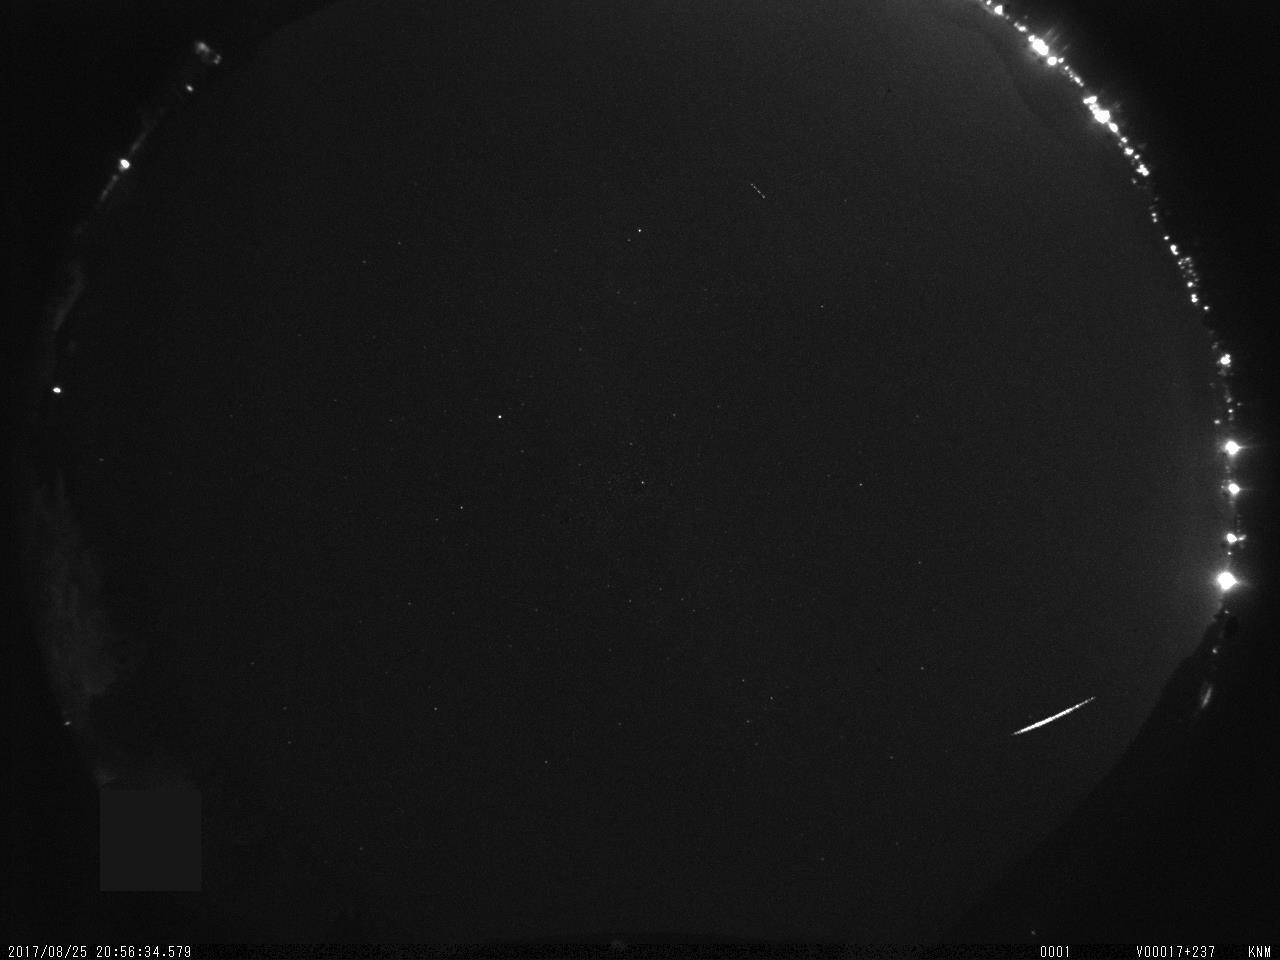Meteor: (1008, 691, 1097, 738)
